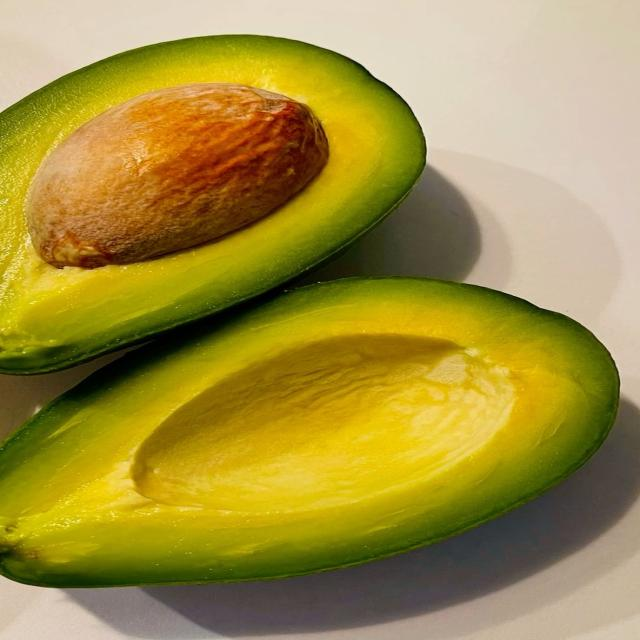avocado: (0, 277, 618, 586), (0, 36, 425, 373)
